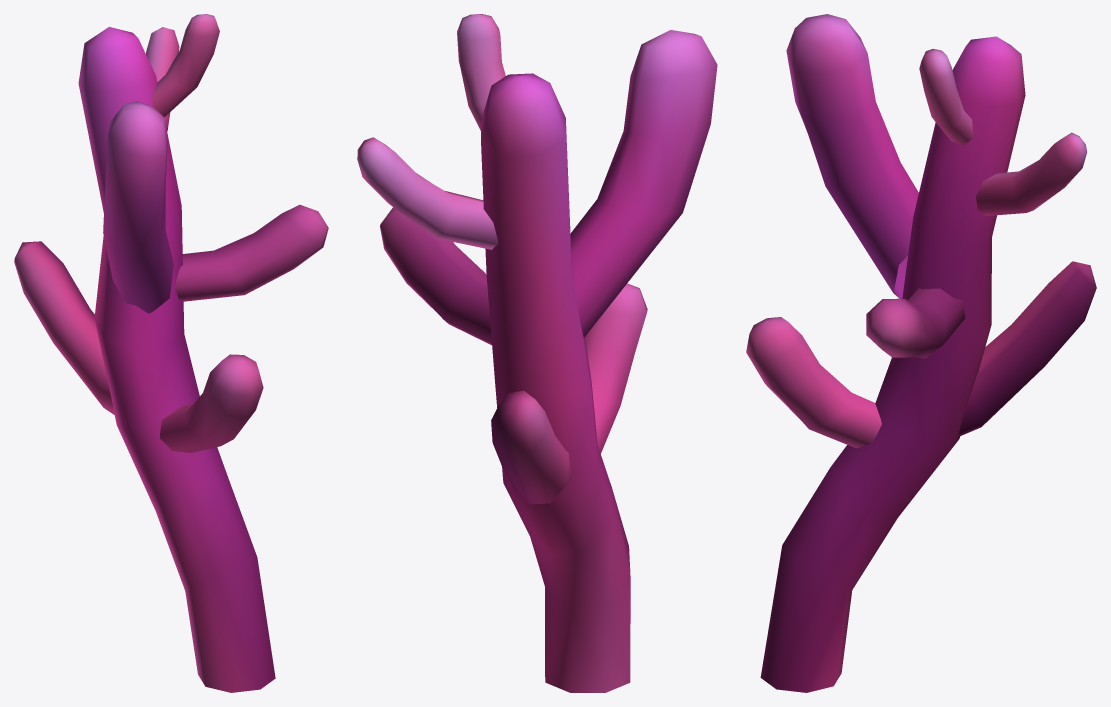
The model's file is SM_Coral02.obj.
3 renders of one model, left to right at view 1: azimuth 30°, elevation 25°; view 2: azimuth 150°, elevation 25°; view 3: azimuth 270°, elevation 25°, orthographic. The views are drawn at different scales.
Parts seen in each view (by area): view 1: SM_Coral02; view 2: SM_Coral02; view 3: SM_Coral02.
Boxes of the visible parts, box(x1,y1,x2,y2) form: SM_Coral02: box(14, 14, 328, 692); SM_Coral02: box(357, 14, 717, 692); SM_Coral02: box(746, 14, 1096, 692).
Bounding box in the file's own units: 0.0257 × 0.0609 × 0.0302.
